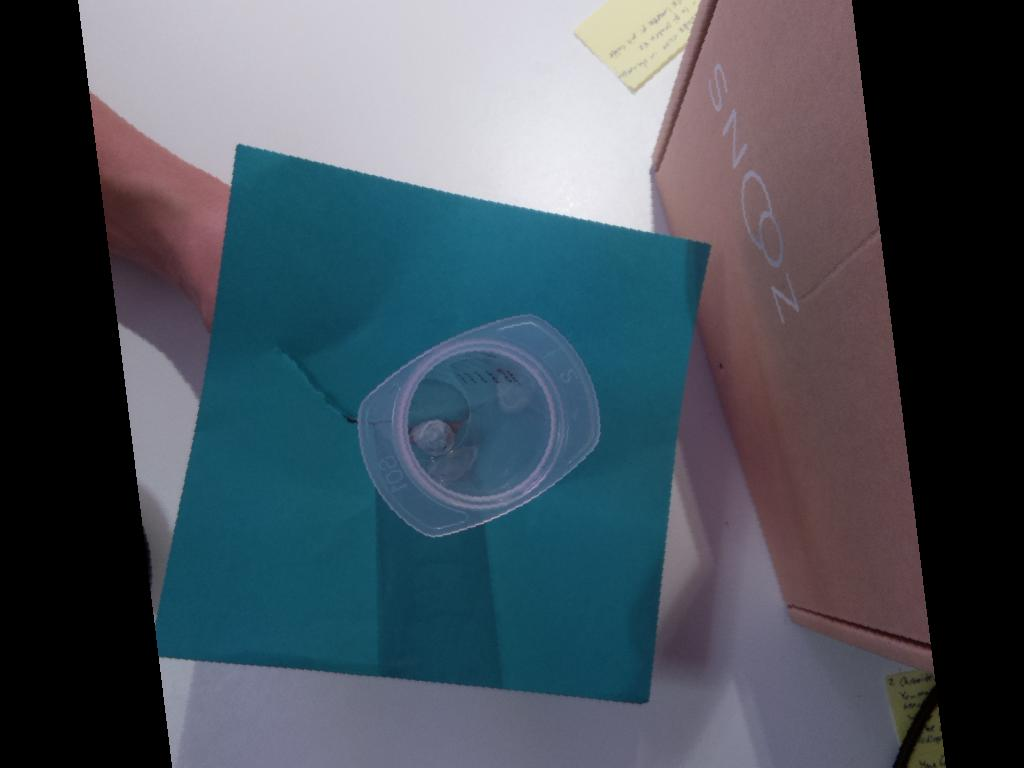clean: (355, 312, 601, 538)
